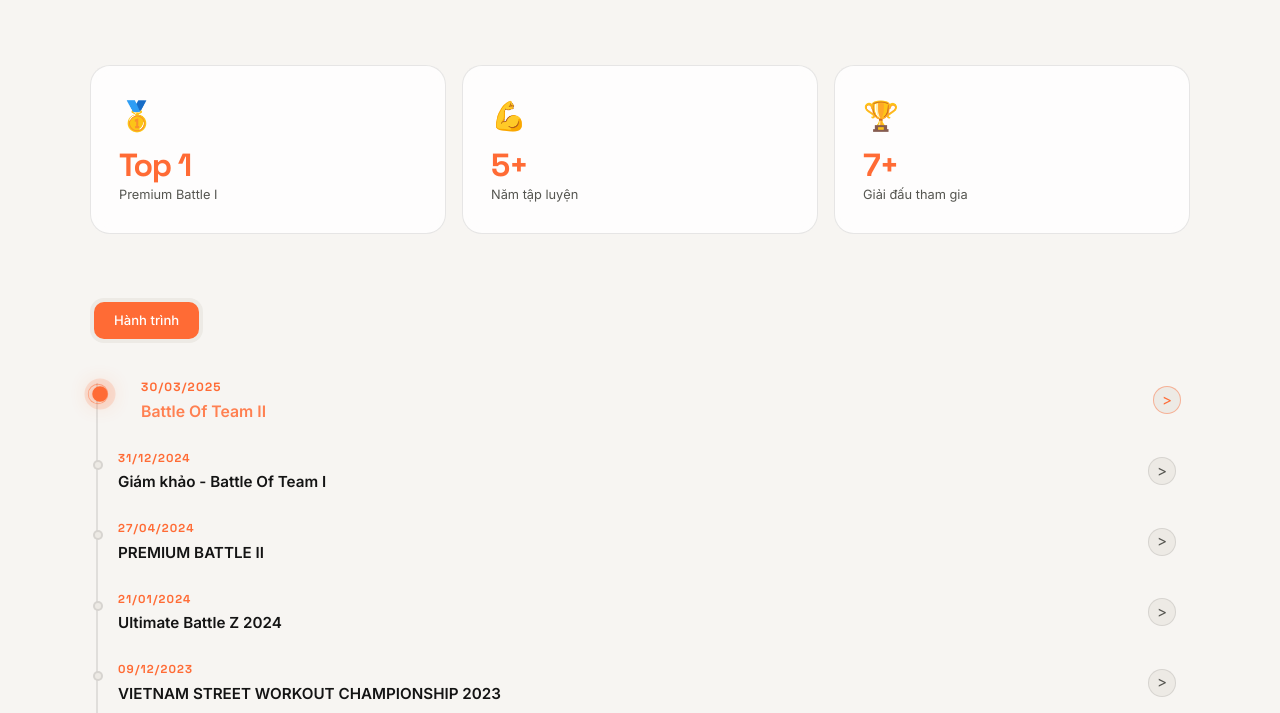
AboutMe component › cho phep chuyen doi qua tab thanh tich (portfolio)
This screenshot has width=1280, height=713.
(page scrolled)
Click the button "30/03/2025 Battle Of Team II >" at (181, 387), box [118,375,1176,426]
(page scrolled)
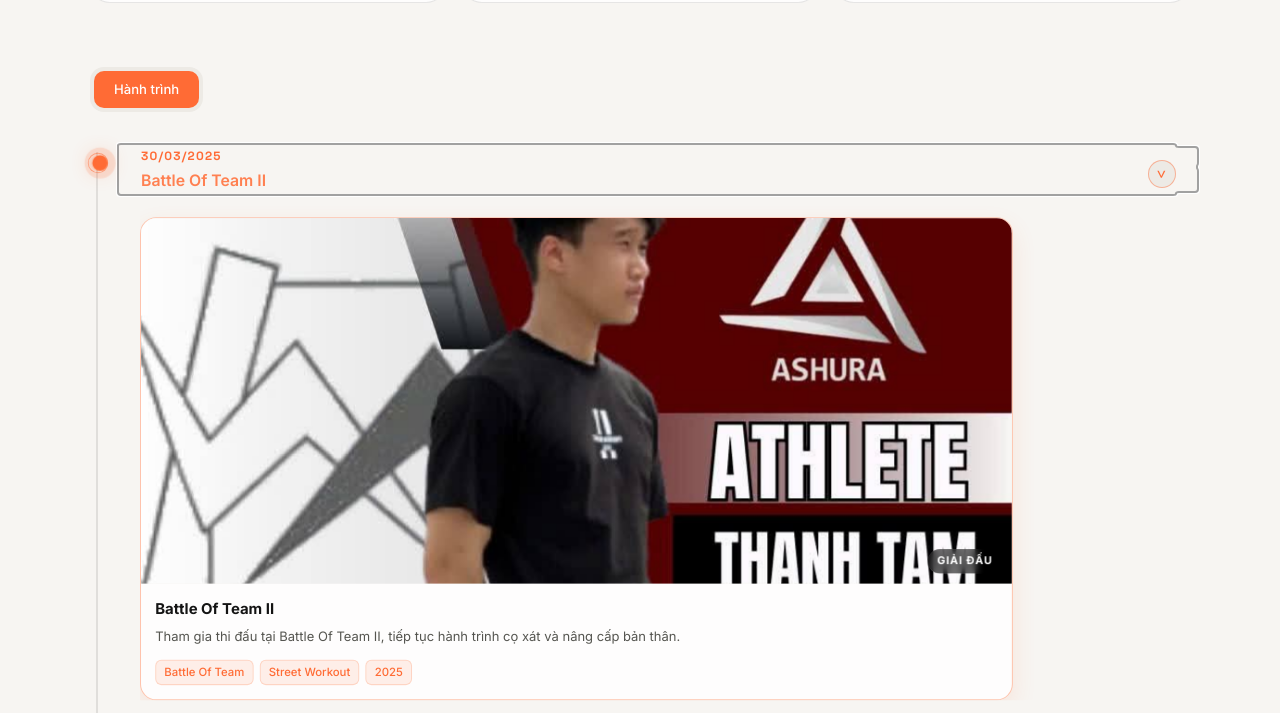
Expected: the element with class "timeline-project-thumb" is shown, [141,218,1012,583]
